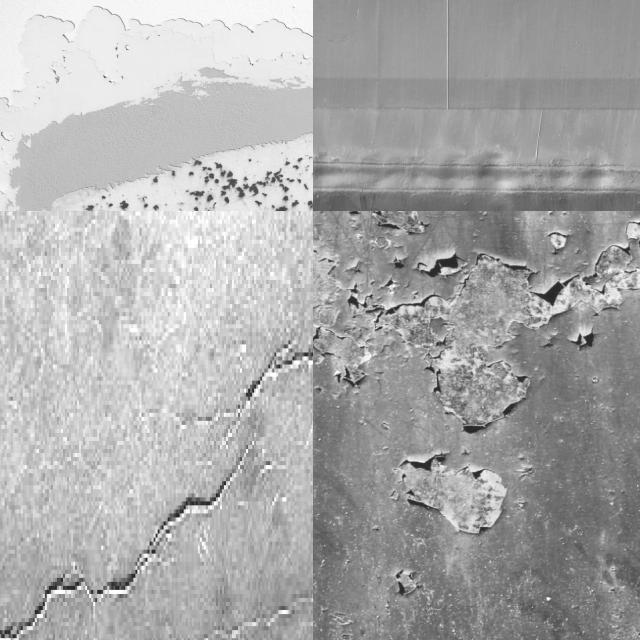Crack: (99, 457, 242, 594), (198, 340, 313, 417), (0, 578, 96, 640)
Uniform Corrosion: (380, 255, 640, 426), (313, 150, 640, 198), (397, 449, 508, 534), (313, 322, 371, 385), (595, 245, 631, 279), (373, 211, 425, 233), (627, 221, 640, 241), (441, 249, 455, 257)
